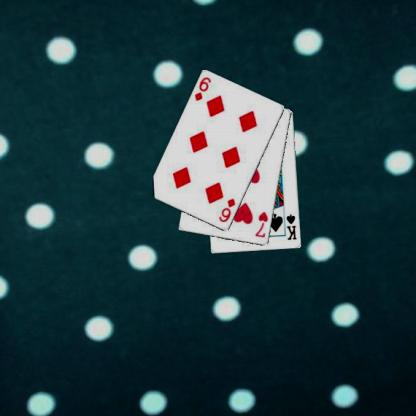6D: (216, 196, 236, 224), (192, 75, 212, 102)
7H: (253, 210, 269, 240)
KS: (284, 212, 298, 241)
